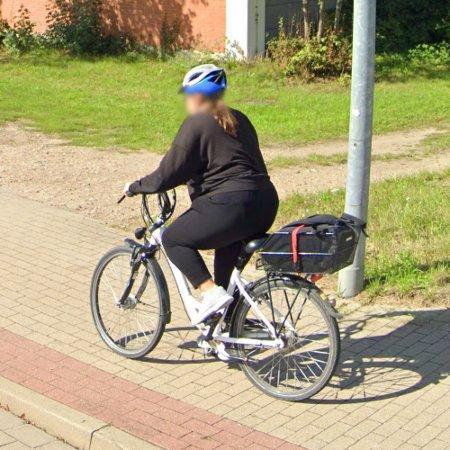bicycles: (90, 247, 170, 359)
